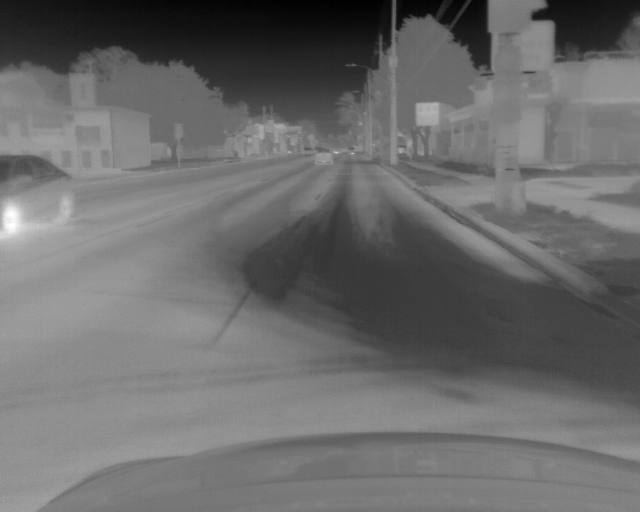car: (1, 154, 75, 236), (311, 147, 333, 167)
